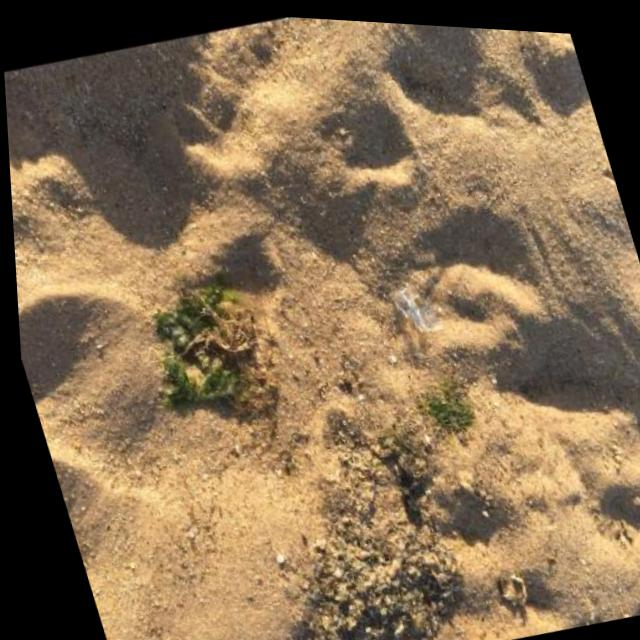plastic: (389, 274, 447, 338)
